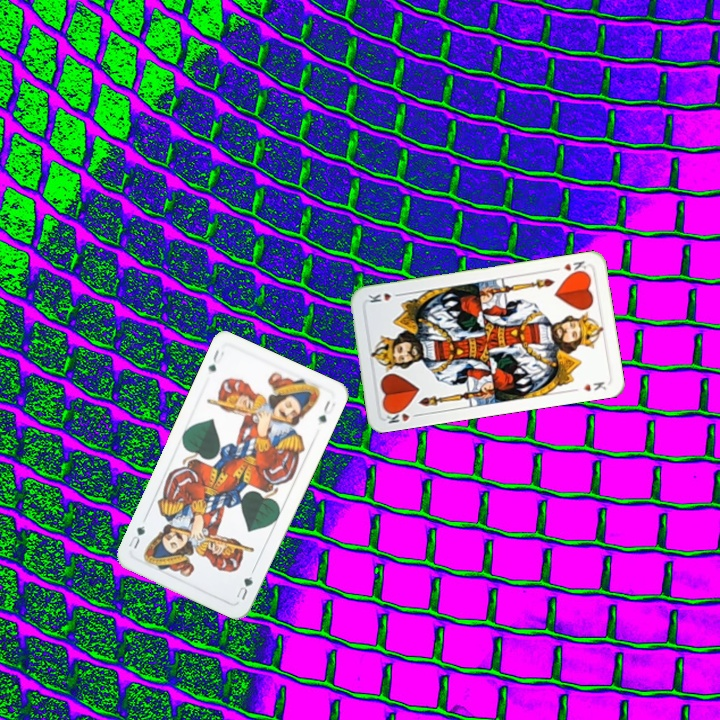GU: (232, 572, 256, 602), (204, 346, 227, 374)
HK: (550, 256, 591, 277), (381, 405, 422, 426)
